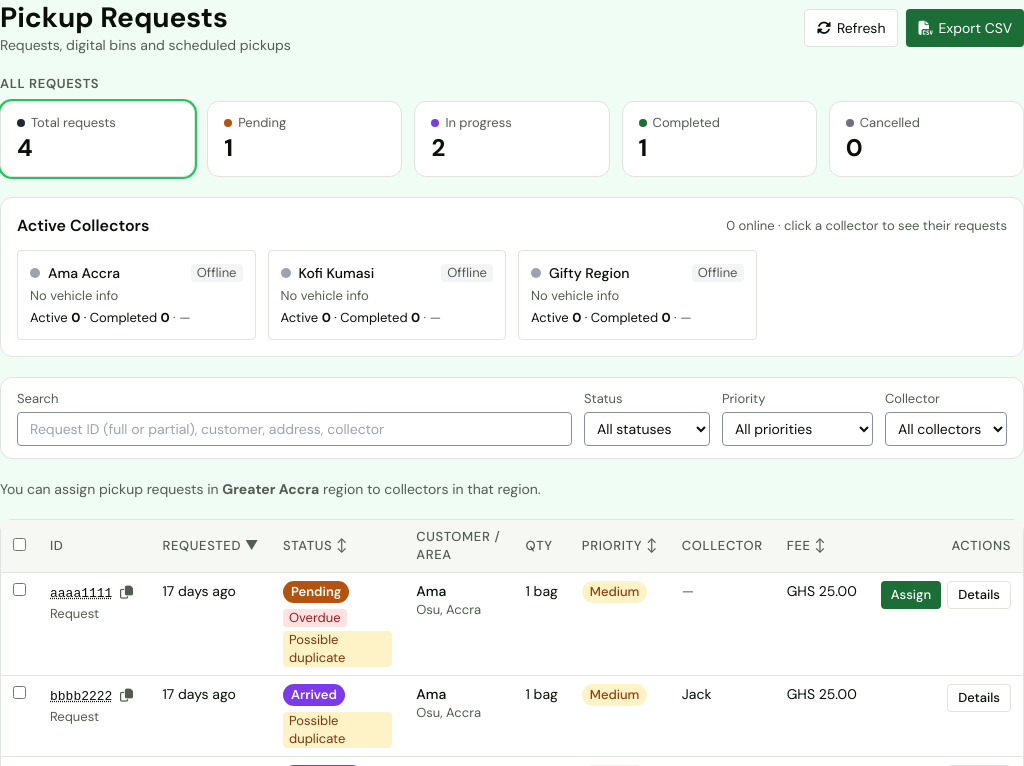
Test: who may assign › a Waste Management Manager assigns only to collectors in their region
Expected: the element with test id "assign-scope-region" shows "Greater Accra", top-left (222, 480), bottom-right (319, 498)
Click the button "Assign" at (911, 595), box top-left (881, 581), bottom-right (941, 609)
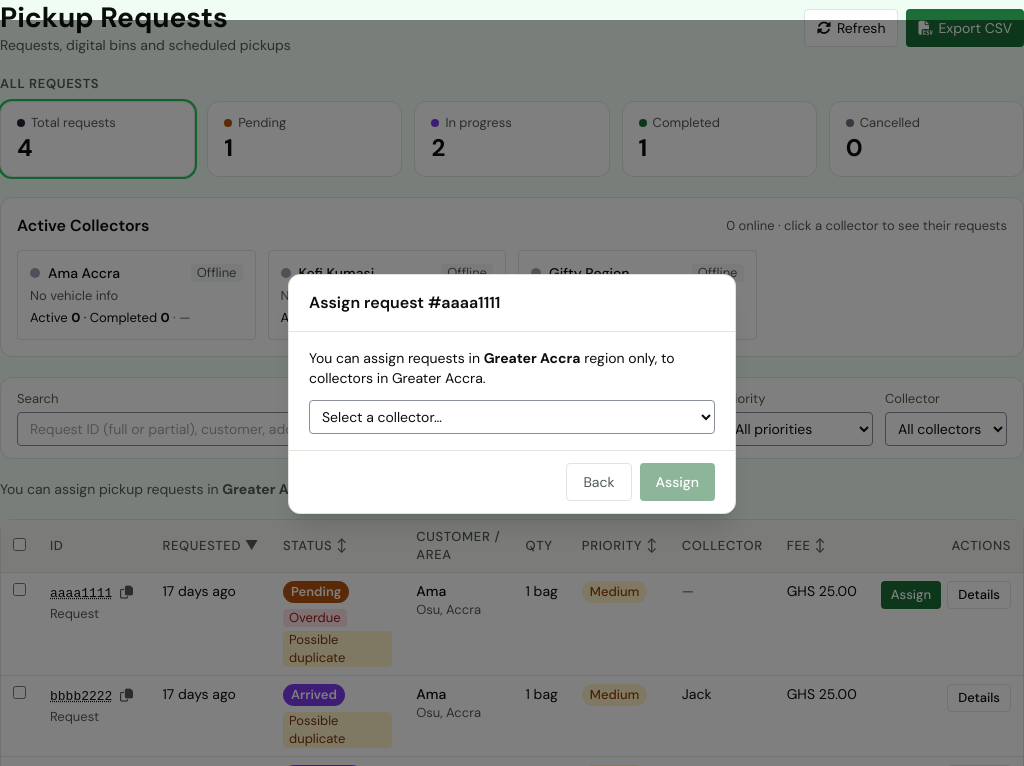
Now the element with test id "assign-region-note" shows "Greater Accra", box top-left (484, 349), bottom-right (580, 367)
